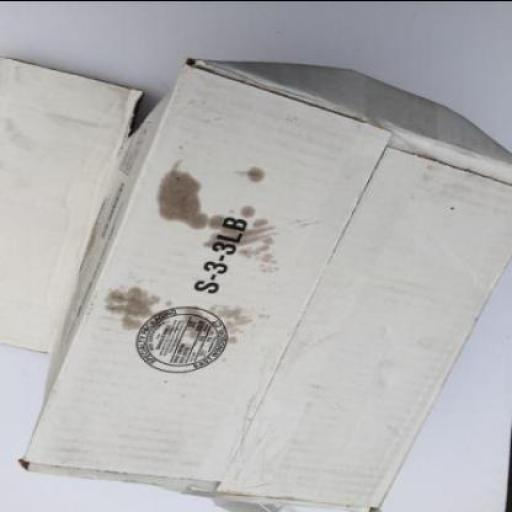cardboard: (18, 59, 512, 511), (0, 55, 144, 355)
